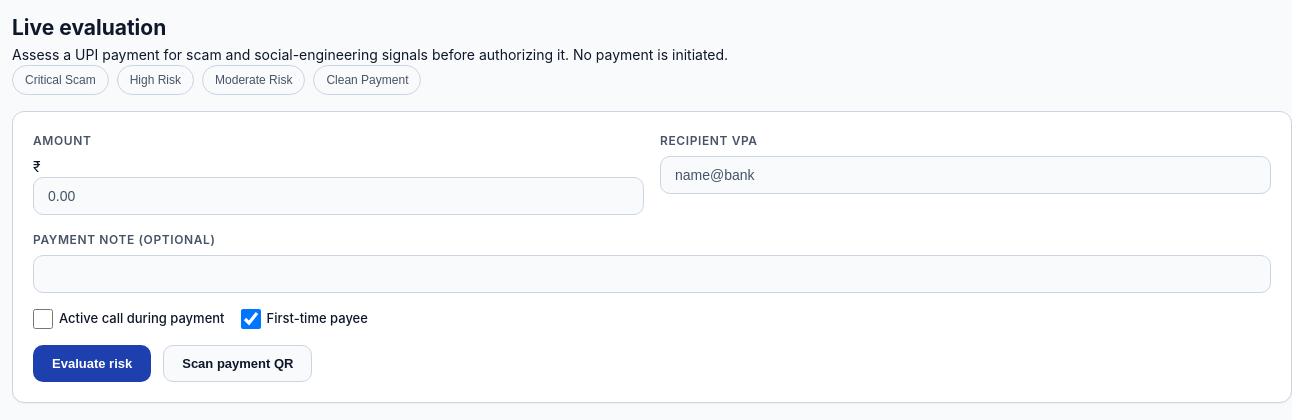
Test case: preset buttons populate form
This screenshot has width=1292, height=420.
Click the button "Critical Scam" at (60, 80), box [12,64,109,94]
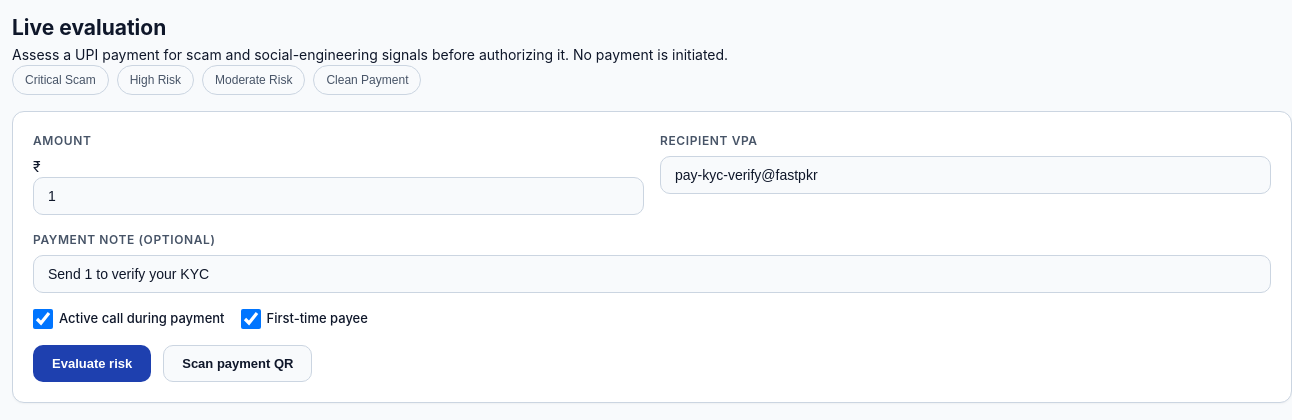
Expected: the field labelled "Amount" holds "1", [33,176,644,214]
Expected: the field labelled "Recipient VPA" holds "pay-kyc-verify@fastpkr", [660,156,1271,194]
Expected: the field labelled "Payment note (optional)" holds "Send 1 to verify your KYC", [33,254,1271,292]
